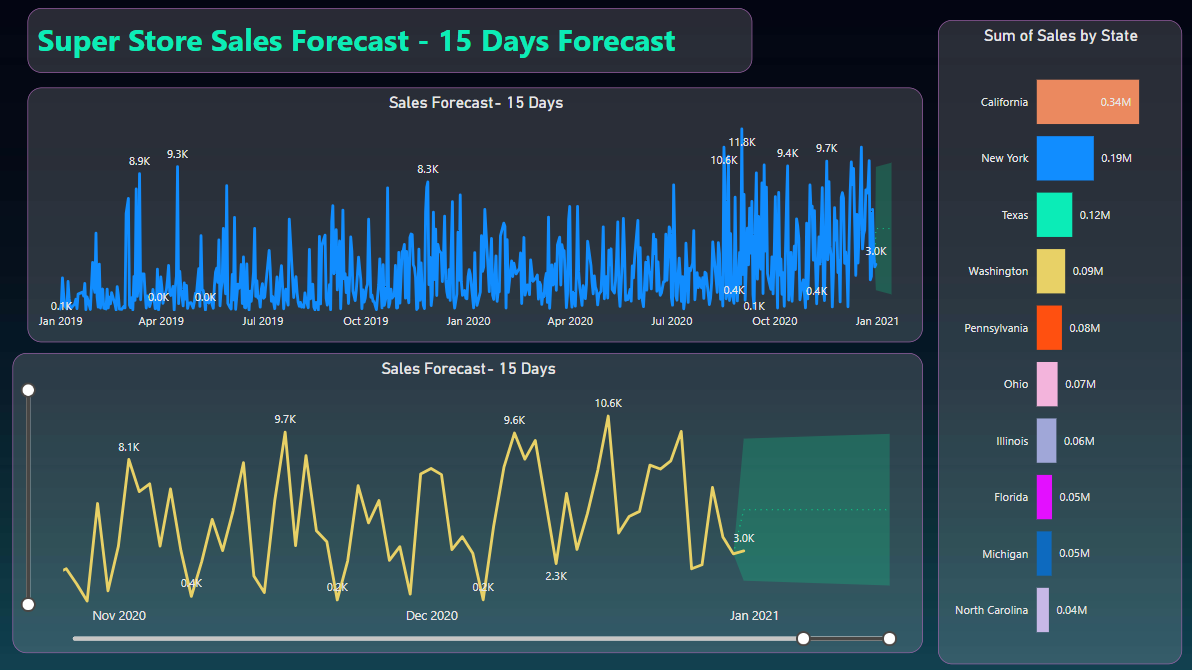

The page's visual inventory and layout, read from the dashboard file:
{"tool":"powerbi","page":{"name":"Page 2","canvas":[1280,720],"ordinal":1},"visuals":[{"type":"lineChart","title":"Sales Forecast- 15 Days","fields":{"Y":["Sum(SuperStore_Sales_Dataset.Sales)"],"Category":["SuperStore_Sales_Dataset.Order Date"]},"box":[42.9,97,948.9,270.2],"z":0},{"type":"lineChart","title":"Sales Forecast- 15 Days","fields":{"Y":["Sum(SuperStore_Sales_Dataset.Sales)"],"Category":["SuperStore_Sales_Dataset.Order Date"]},"box":[27,378.3,964.8,317.9],"z":1000},{"type":"clusteredBarChart","fields":{"Category":["SuperStore_Sales_Dataset.State"],"Y":["Sum(SuperStore_Sales_Dataset.Sales)"]},"box":[1008,25.9,258.9,682.8],"z":2000},{"type":"textbox","box":[42.9,12.7,767.7,68.3],"z":2001}]}

Visuals, with their boxes in screenshot pixels (x1, y1, x2, y2), scaled from the page's 1280x720 canvas onto the 1192x670 screenshot:
"Sales Forecast- 15 Days" lineChart: l=40, t=90, r=924, b=342
"Sales Forecast- 15 Days" lineChart: l=25, t=352, r=924, b=648
clusteredBarChart - SuperStore_Sales_Dataset.State x Sum(SuperStore_Sales_Dataset.Sales): l=939, t=24, r=1180, b=659
textbox: l=40, t=12, r=755, b=75
